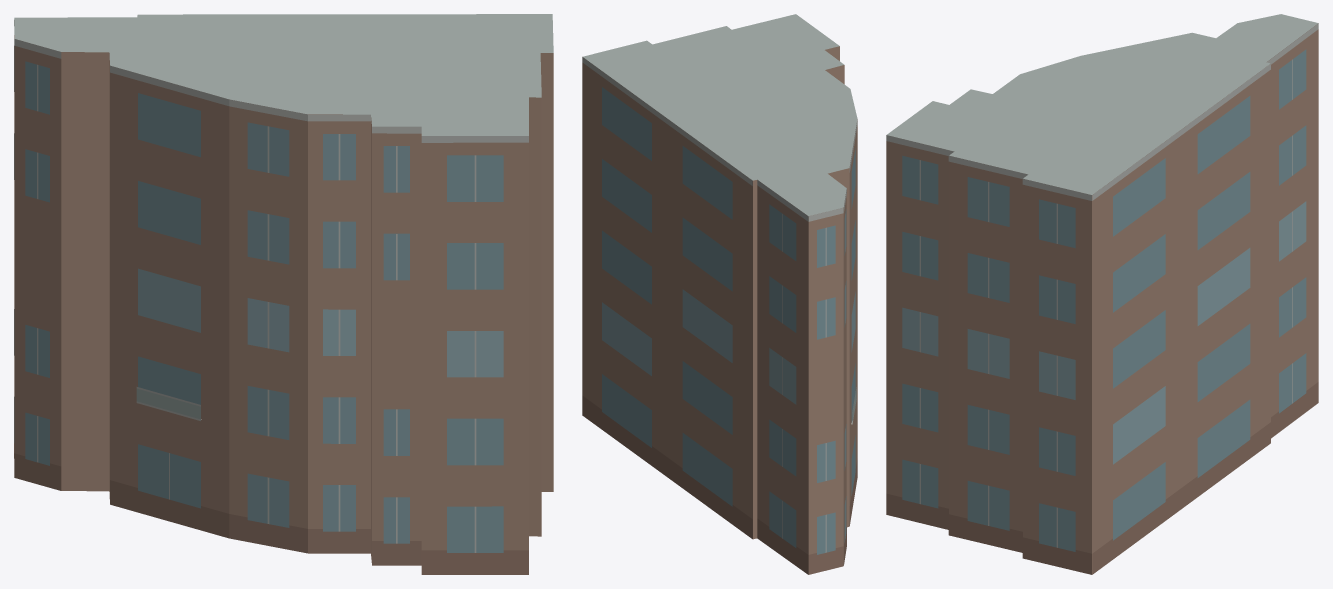
The model's file is survey-upis-32682088.glb.
The picture shows the model from 3 angles, left to right: view 1: azimuth 30°, elevation 25°; view 2: azimuth 150°, elevation 25°; view 3: azimuth 270°, elevation 25°; orthographic projection. The views are drawn at different scales.
Visible parts, largest first — view 1: survey-upis-32682088.tmp; view 2: survey-upis-32682088.tmp; view 3: survey-upis-32682088.tmp.
Part boxes in pixels (left/top/right/bottom): survey-upis-32682088.tmp: left=14, top=14, right=553, bottom=574; survey-upis-32682088.tmp: left=582, top=14, right=857, bottom=574; survey-upis-32682088.tmp: left=886, top=14, right=1318, bottom=574.
Size of the model in its own units: 15.76 by 15.4 by 15.89.
